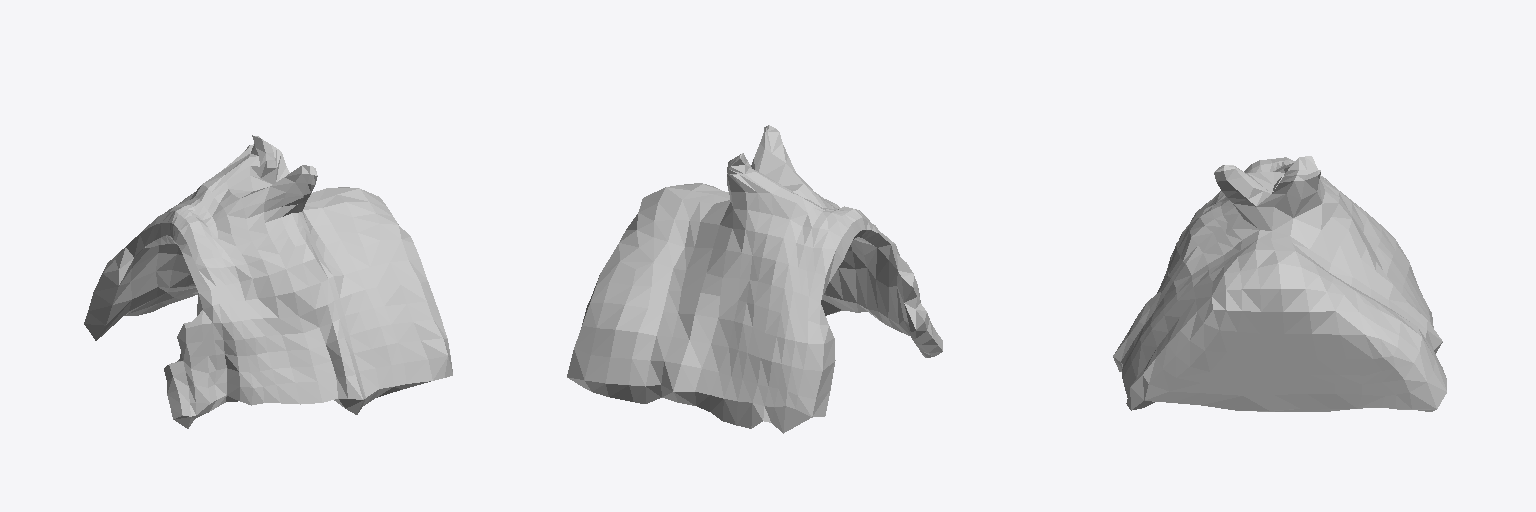
The model's file is Cave_Entrance.obj.
3 renders of one model, left to right at view 1: azimuth 30°, elevation 25°; view 2: azimuth 150°, elevation 25°; view 3: azimuth 270°, elevation 25°, orthographic.
Visible parts, largest first — view 1: polySurface1; view 2: polySurface1; view 3: polySurface1.
Boxes of the visible parts, x1,y1,x2,y2 form: polySurface1: [84, 135, 452, 428]; polySurface1: [567, 125, 942, 433]; polySurface1: [1113, 156, 1446, 411].
Size of the model in its own units: 12.17 by 9.62 by 13.66.